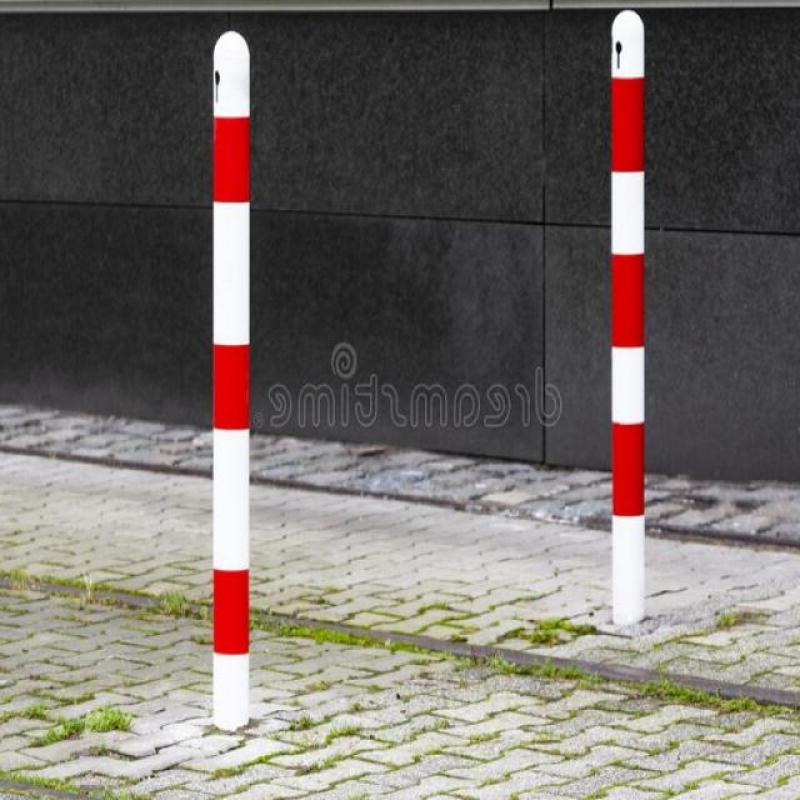pillar: (204, 29, 258, 749), (596, 12, 657, 637)
